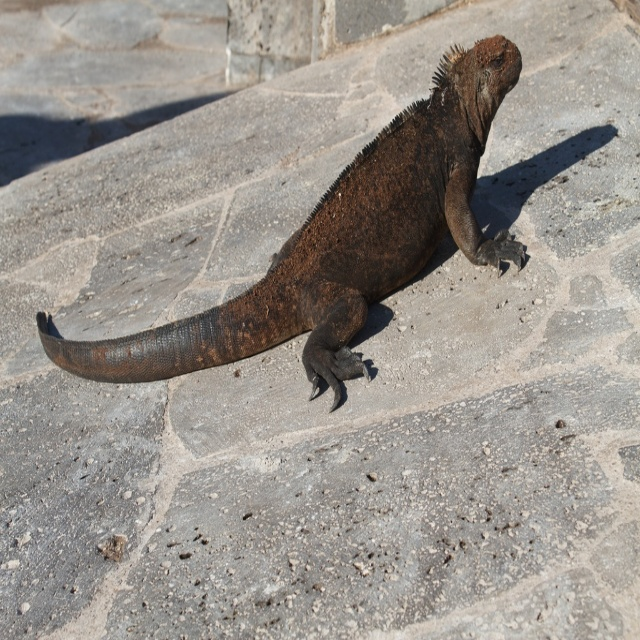Lizard: (39, 45, 520, 409)
